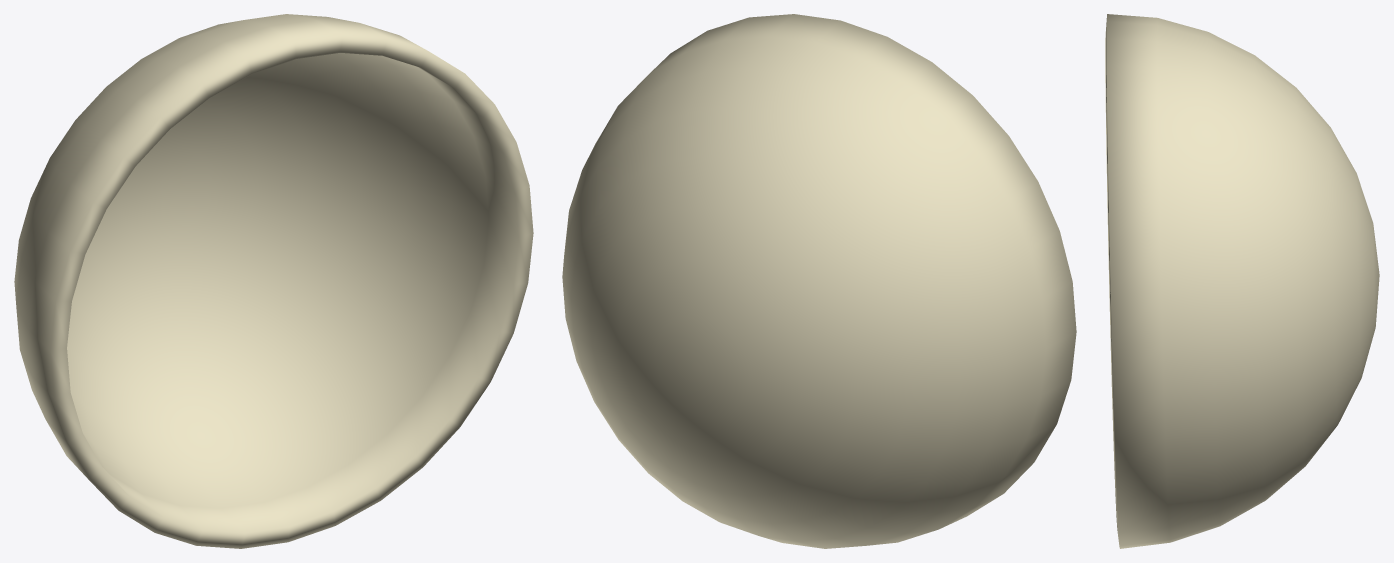
The picture shows the model from 3 angles, left to right: view 1: azimuth 30°, elevation 25°; view 2: azimuth 150°, elevation 25°; view 3: azimuth 270°, elevation 25°; orthographic projection. The views are drawn at different scales.
Visible parts, largest first — view 1: Sphere.003; view 2: Sphere.003; view 3: Sphere.003.
Part boxes in pixels (box(x1,y1,x2,y2)): Sphere.003: box(14, 14, 533, 548); Sphere.003: box(562, 14, 1076, 548); Sphere.003: box(1105, 14, 1379, 548).
Bounding box in the file's own units: 2.82 × 2.82 × 1.44.
